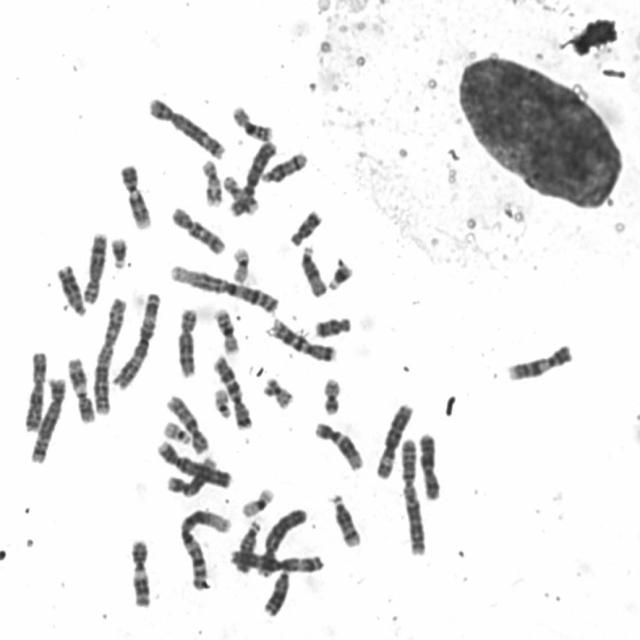A1: (165, 257, 281, 315), (174, 501, 234, 592)
A2: (89, 292, 128, 416), (395, 431, 429, 557)
A3: (108, 285, 162, 390), (224, 543, 327, 575)
B4: (152, 434, 234, 490), (254, 500, 309, 580)
B5: (142, 91, 228, 160), (26, 370, 68, 465)
C10: (165, 199, 228, 256), (161, 388, 211, 455)
C11: (63, 351, 97, 424), (125, 532, 154, 608)
C12: (309, 415, 366, 472), (161, 451, 218, 497)
C6: (224, 133, 279, 218), (371, 396, 416, 480)
C7: (207, 348, 254, 430), (264, 311, 338, 363)
C8: (78, 225, 110, 304), (172, 300, 200, 380)
C9: (502, 336, 576, 383), (115, 156, 154, 231)
D13: (52, 257, 88, 317), (258, 564, 292, 617)
D14: (324, 486, 364, 549), (256, 144, 310, 185)
D15: (230, 514, 263, 574), (296, 239, 329, 298)
E16: (227, 99, 276, 142), (209, 301, 242, 355)
E17: (218, 168, 260, 216), (197, 152, 224, 208)
E18: (285, 202, 324, 246), (308, 309, 354, 340)
F19: (236, 482, 276, 518), (226, 240, 252, 284)
F20: (258, 370, 296, 410), (316, 371, 344, 416)
G21: (323, 253, 355, 292), (106, 231, 130, 270)
G22: (158, 414, 193, 445), (208, 381, 234, 420)
X: (19, 343, 49, 432), (413, 426, 442, 502)
